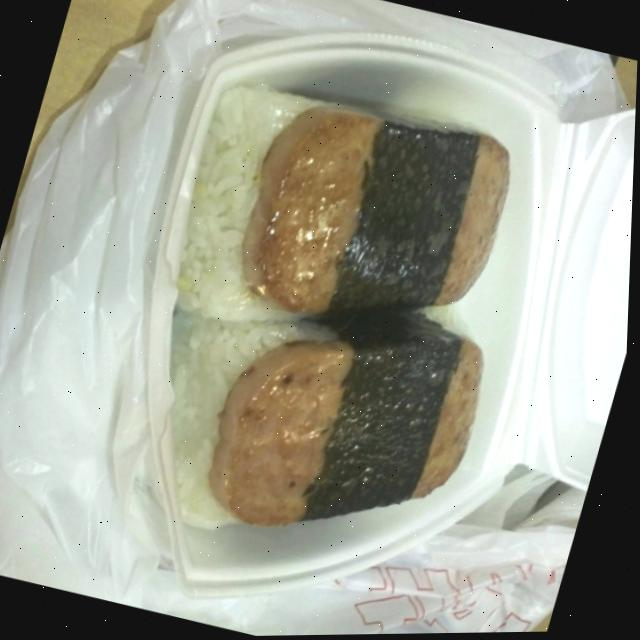寿司卷物: (78, 16, 582, 606)
